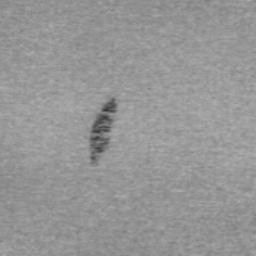Secondary rust skin: (90, 97, 117, 167)
